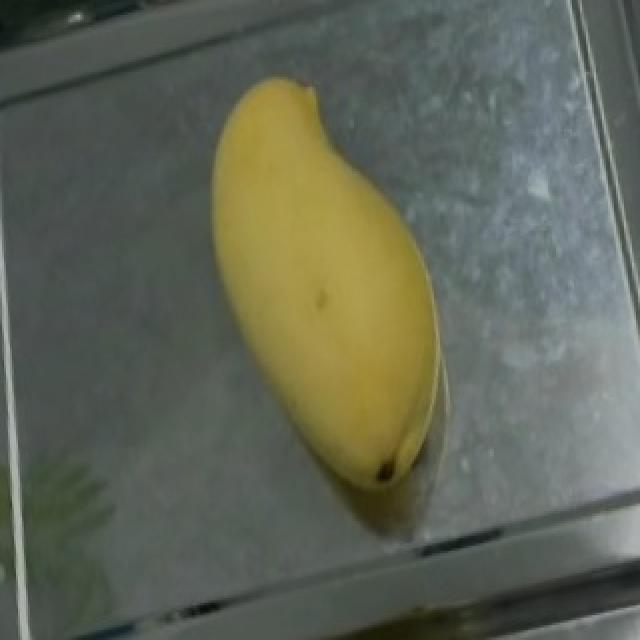fruit: (140, 44, 488, 437)
